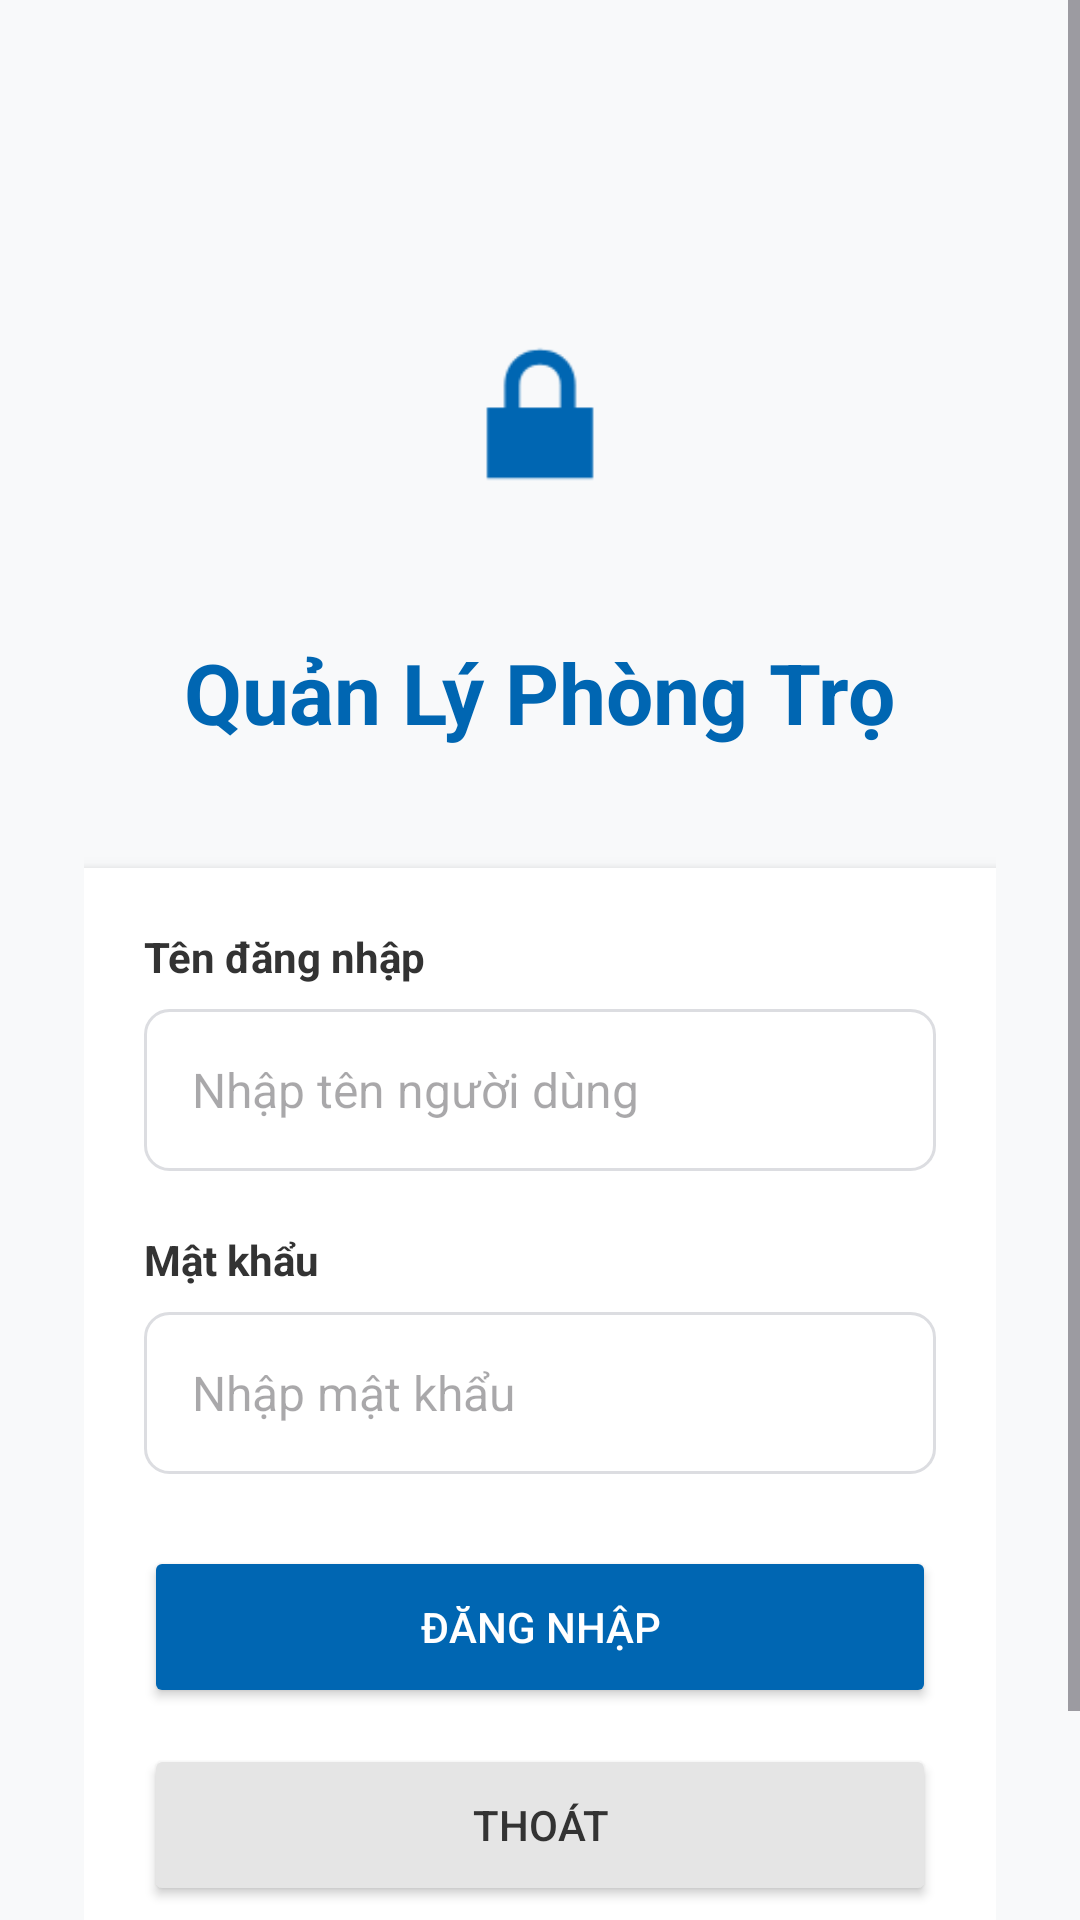

Icons on this 1080 × 1920 Android screen, each with its box as (x1, y1, x2, y2):
lock: (486, 348, 594, 480)
